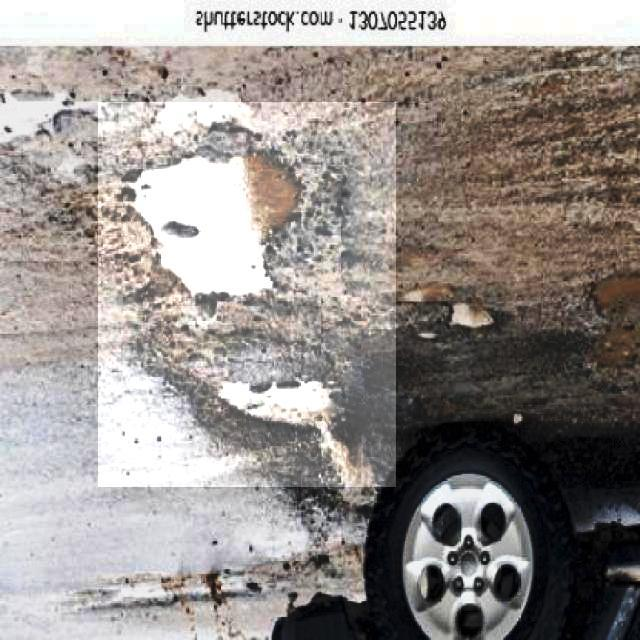pothole: (98, 102, 396, 487)
